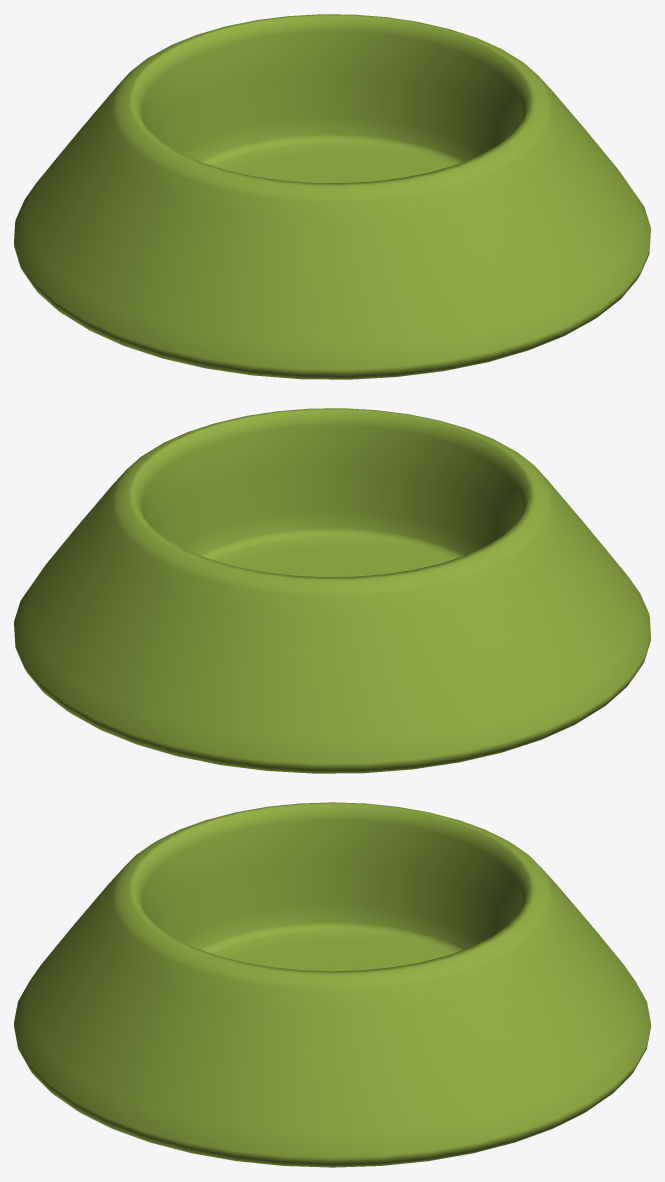
Rendered from SM_DogBowl.fbx.
3 views of the same model, one above another, from view 1: azimuth 30°, elevation 25°; view 2: azimuth 150°, elevation 25°; view 3: azimuth 270°, elevation 25° (orthographic).
Visible parts, largest first — view 1: SM_DogBowl; view 2: SM_DogBowl; view 3: SM_DogBowl.
Part boxes in pixels (x1,y1,x2,y2): SM_DogBowl: (14,14,650,379); SM_DogBowl: (14,408,650,773); SM_DogBowl: (14,802,650,1167).
Size of the model in its own units: 38.28 by 10.12 by 38.28.
Materials: 1 (1 with a texture image).
